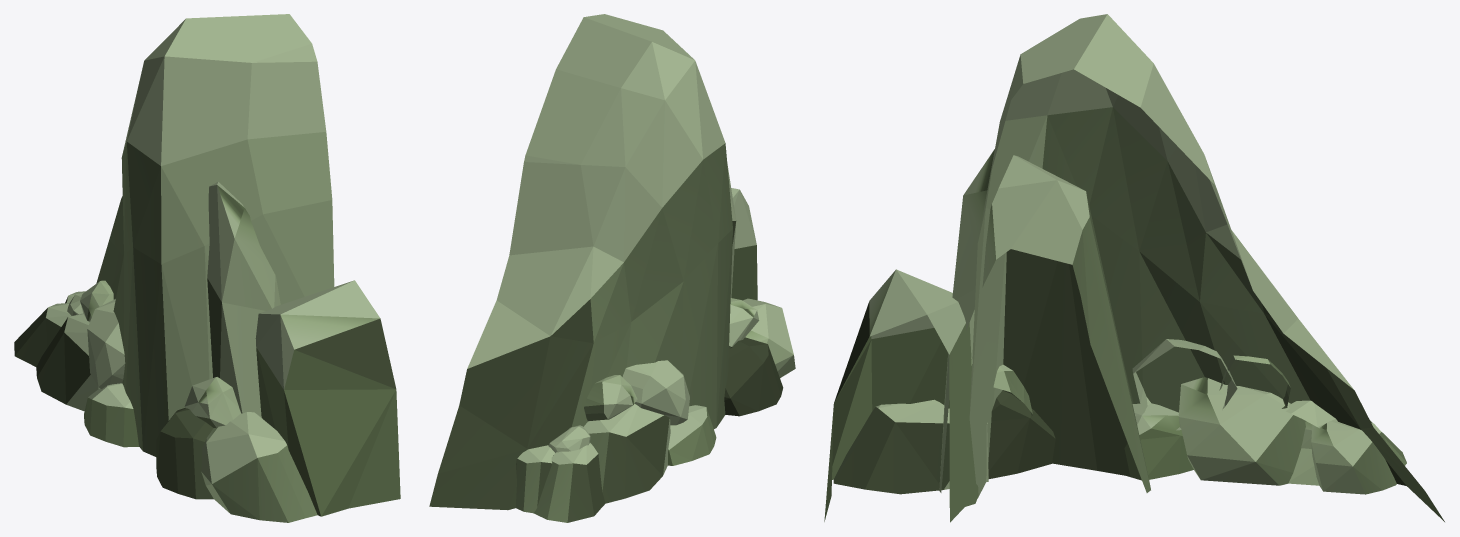
Rendered from EA_Swamp_Wall_03alt.glb.
3 views of the same model, side by side, from view 1: azimuth 30°, elevation 25°; view 2: azimuth 150°, elevation 25°; view 3: azimuth 270°, elevation 25° (orthographic). The views are drawn at different scales.
Parts seen in each view (by area): view 1: EA_Swamp_Wall_03alt; view 2: EA_Swamp_Wall_03alt; view 3: EA_Swamp_Wall_03alt.
Part boxes in pixels (x1,y1,x2,y2): EA_Swamp_Wall_03alt: [14, 14, 400, 522]; EA_Swamp_Wall_03alt: [429, 14, 795, 522]; EA_Swamp_Wall_03alt: [824, 14, 1444, 522].
Size of the model in its own units: 4.26 by 10.09 by 12.19.
Materials: 1 (1 with a texture image).
